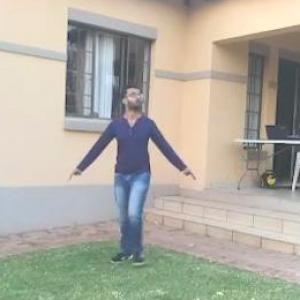land: (85, 94, 186, 254)
